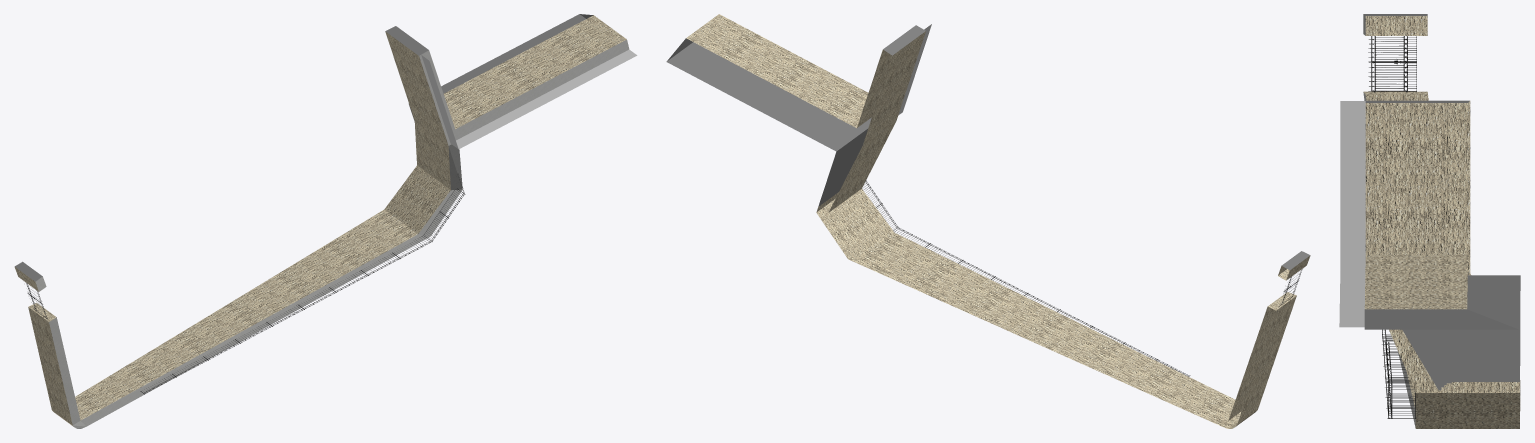
The model's file is Pikk_jalg_16_myyr.obj.
3 renders of one model, left to right at view 1: azimuth 30°, elevation 25°; view 2: azimuth 150°, elevation 25°; view 3: azimuth 270°, elevation 25°, orthographic. The views are drawn at different scales.
Visible parts, largest first — view 1: Pikk_jalg_16_myyr; view 2: Pikk_jalg_16_myyr; view 3: Pikk_jalg_16_myyr.
Part boxes in pixels (bbox=[...]): Pikk_jalg_16_myyr: bbox=[14, 14, 637, 428]; Pikk_jalg_16_myyr: bbox=[666, 14, 1310, 428]; Pikk_jalg_16_myyr: bbox=[1339, 14, 1520, 428].
Bounding box in the file's own units: 54.53 × 26.39 × 9.32.
